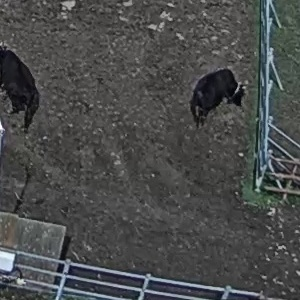cow: (186, 54, 248, 131), (1, 43, 47, 134)
